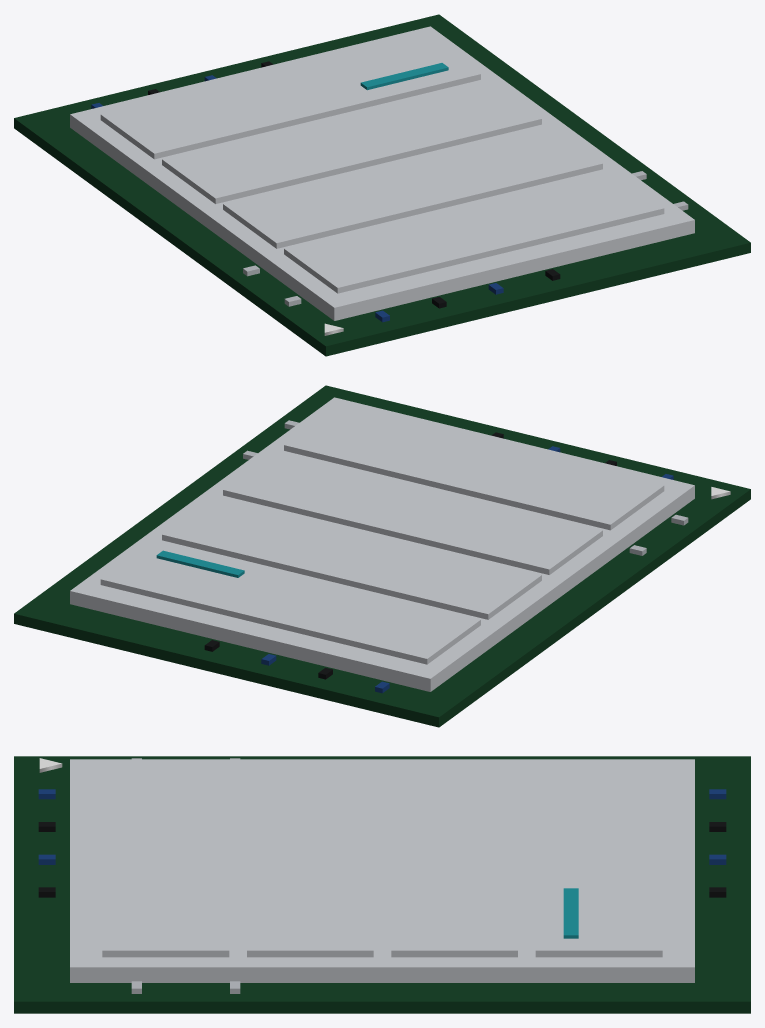
Rendered from hw_cpu_xeon_6780e.glb.
The picture shows the model from 3 angles, top to bottom: view 1: azimuth 30°, elevation 25°; view 2: azimuth 150°, elevation 25°; view 3: azimuth 270°, elevation 25°; orthographic projection. The views are drawn at different scales.
Visible parts, largest first — view 1: Body; view 2: Body; view 3: Body.
Boxes of the visible parts, <box> form: Body: <box>14,14,750,356</box>; Body: <box>14,385,750,727</box>; Body: <box>14,756,750,1013</box>.
Size of the model in its own units: 0.061 by 0.00467 by 0.0775.
